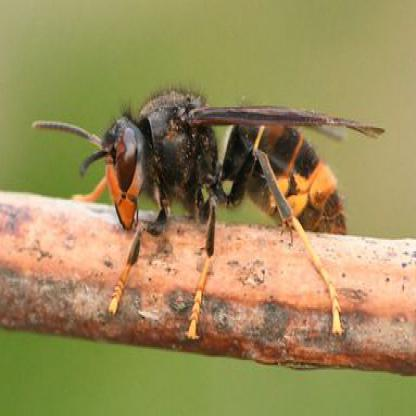Asian Hornet: (26, 65, 385, 359)
